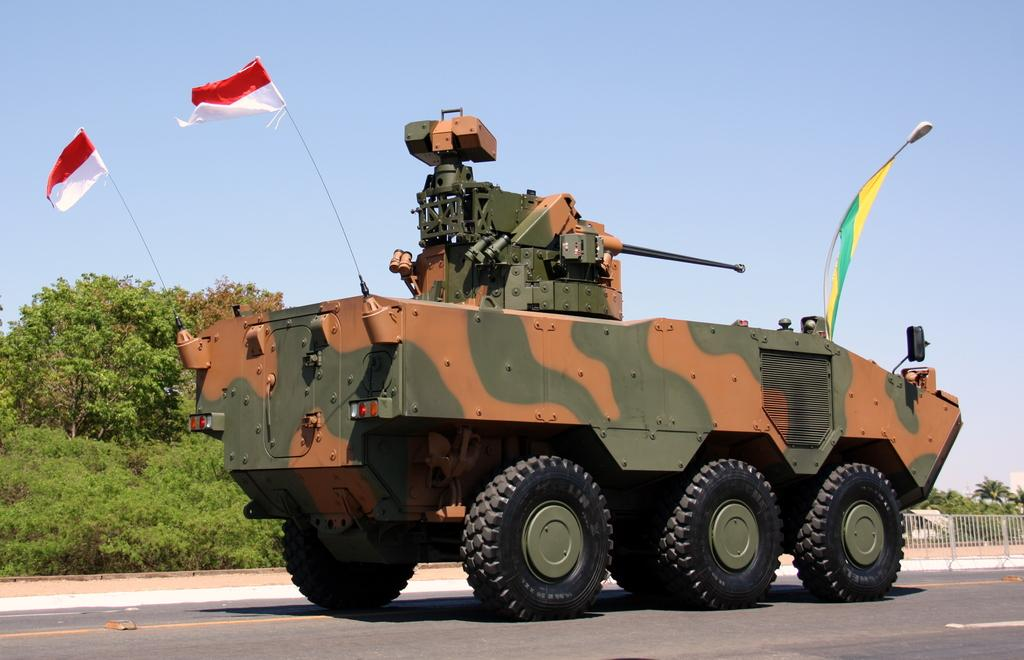Tank: (42, 54, 963, 622)
